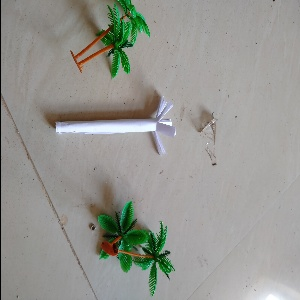plant: (89, 199, 177, 283), (73, 1, 145, 76)
weed: (49, 115, 183, 149)
